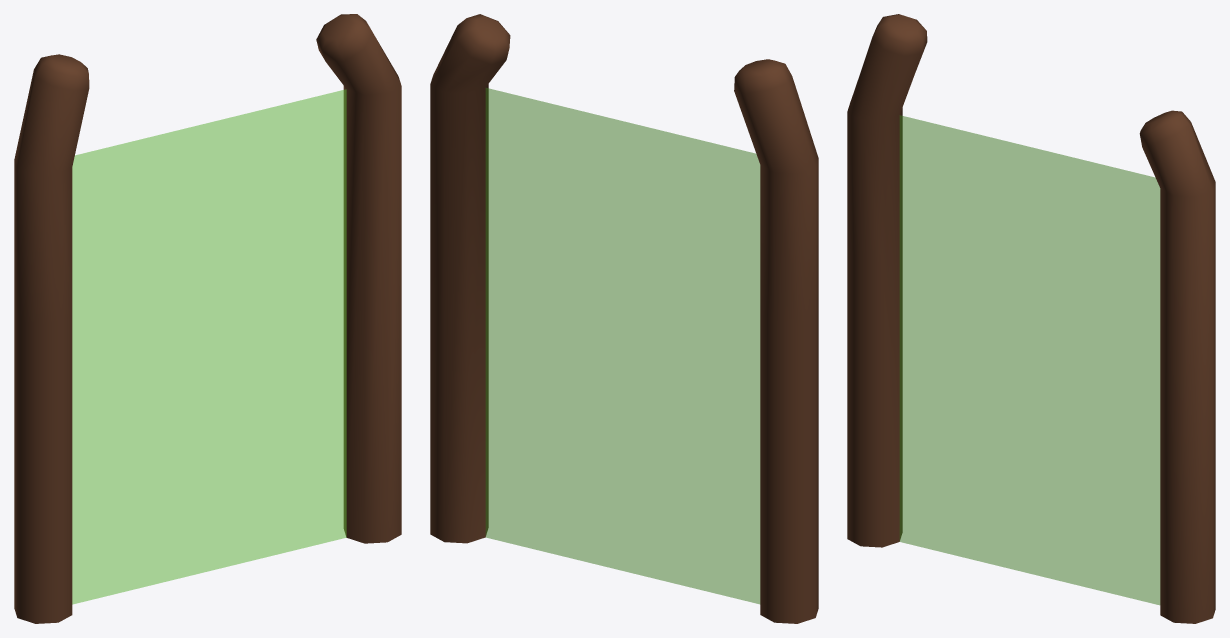
The model's file is gateP.fbx.
3 views of the same model, side by side, from view 1: azimuth 30°, elevation 25°; view 2: azimuth 150°, elevation 25°; view 3: azimuth 330°, elevation 25° (orthographic). The views are drawn at different scales.
Visible parts, largest first — view 1: gate; view 2: gate; view 3: gate.
Boxes of the visible parts, x1,y1,x2,y2 form: gate: (14,14,401,623); gate: (430,14,818,623); gate: (847,14,1215,623).
Bounding box in the file's own units: 155 × 212 × 24.04.
